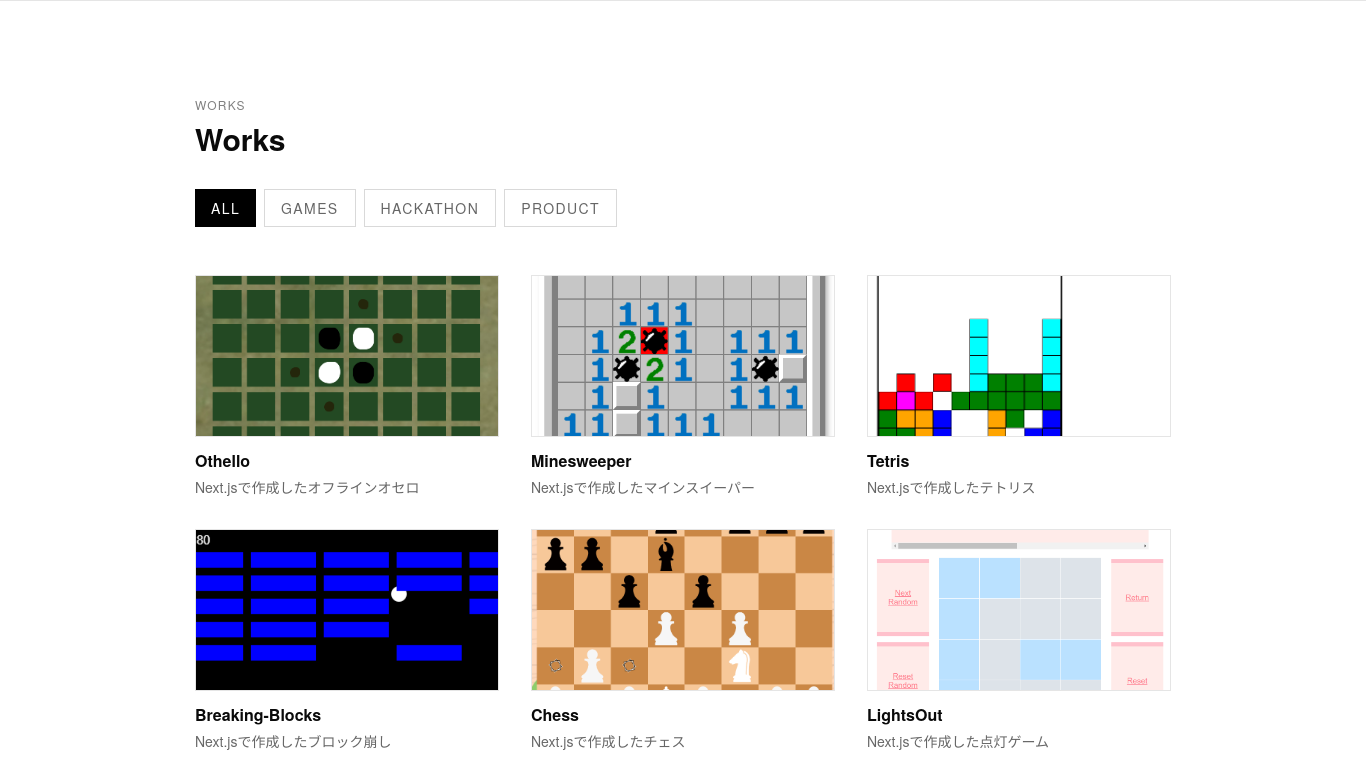
Test case: ユーザーが作品カードをクリックすると、その作品の詳細ダイアログが開く
Click the heading "Othello": click(223, 460) [195,449,250,472]
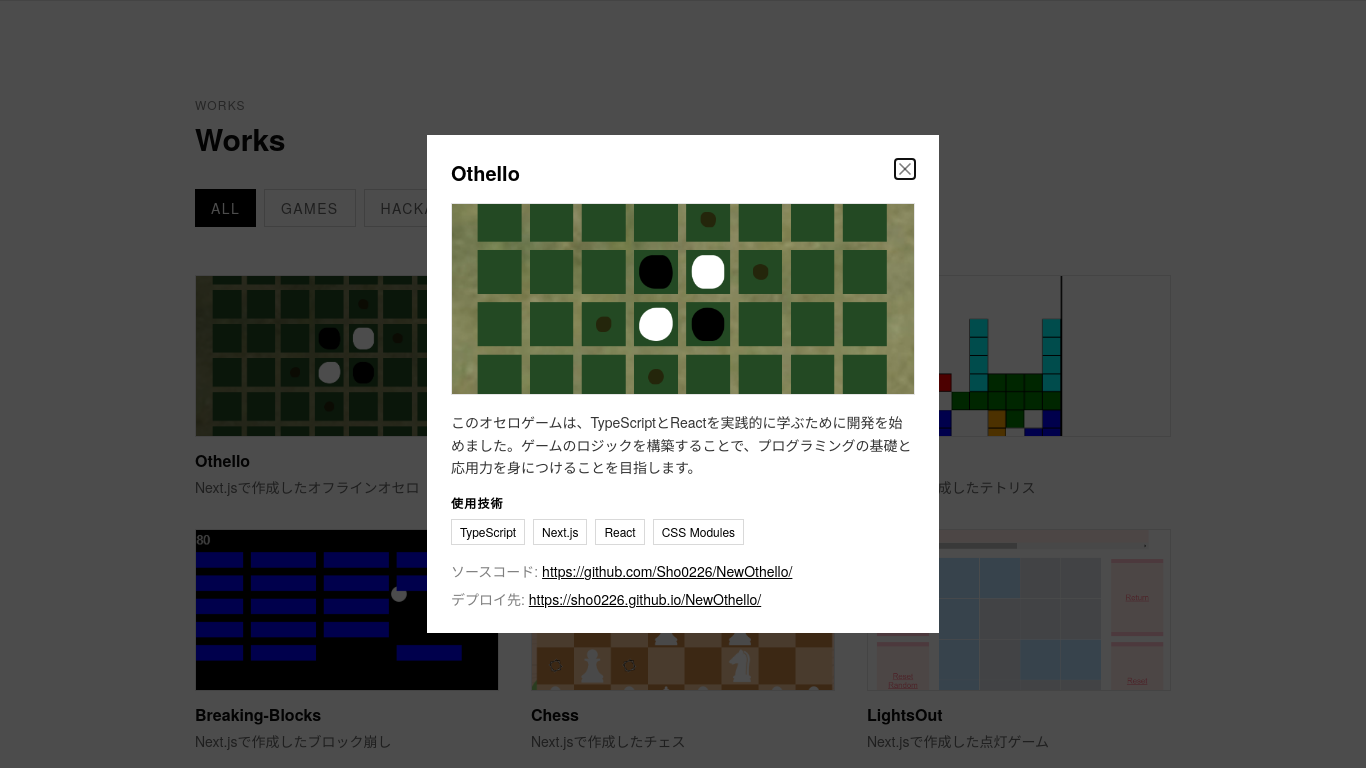
Expected: the dialog is shown, [427,135,939,633]
Expected: the heading "使用技術" is shown, [451,494,504,512]
